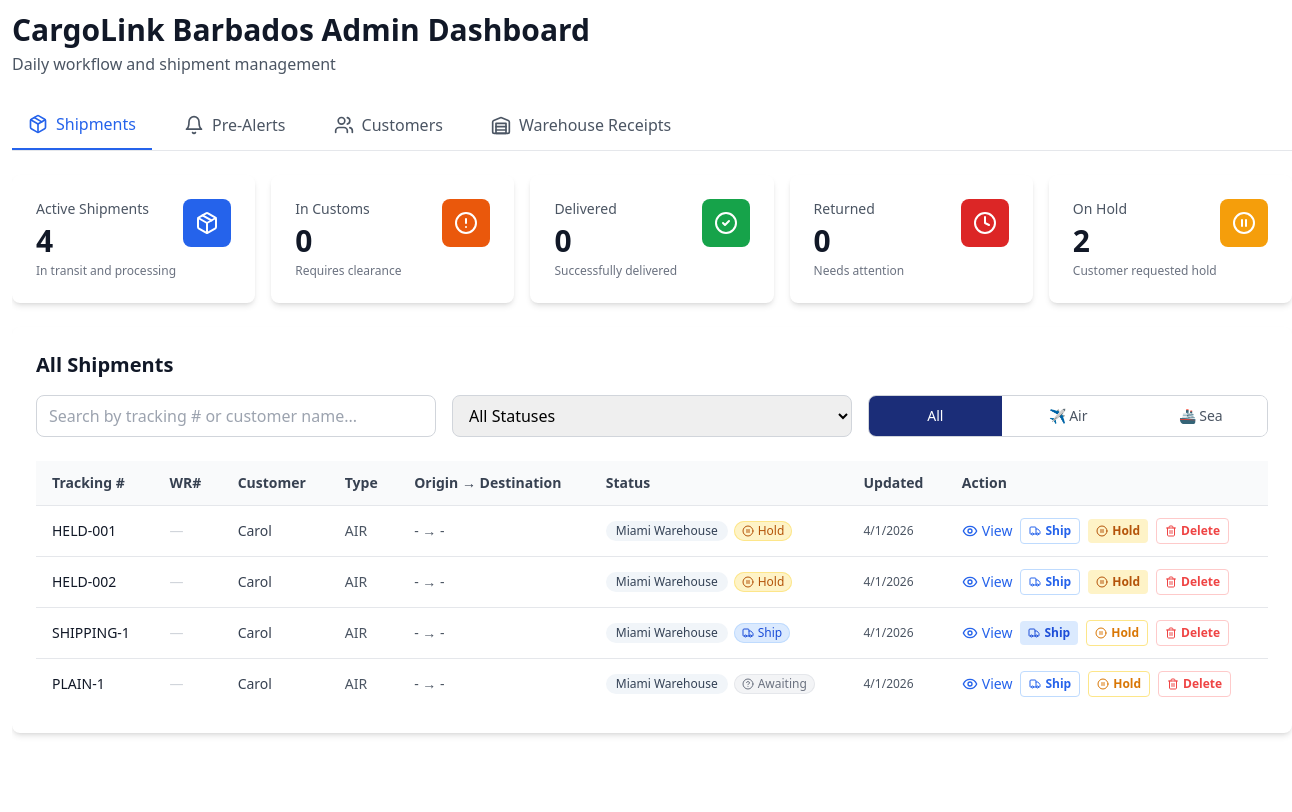
Scenario: AdminDashboard — On Hold metric card › clicking On Hold again clears the filter
Click the text "On Hold".
click(1100, 208)  # box x1=1073 y1=199 x2=1127 y2=218
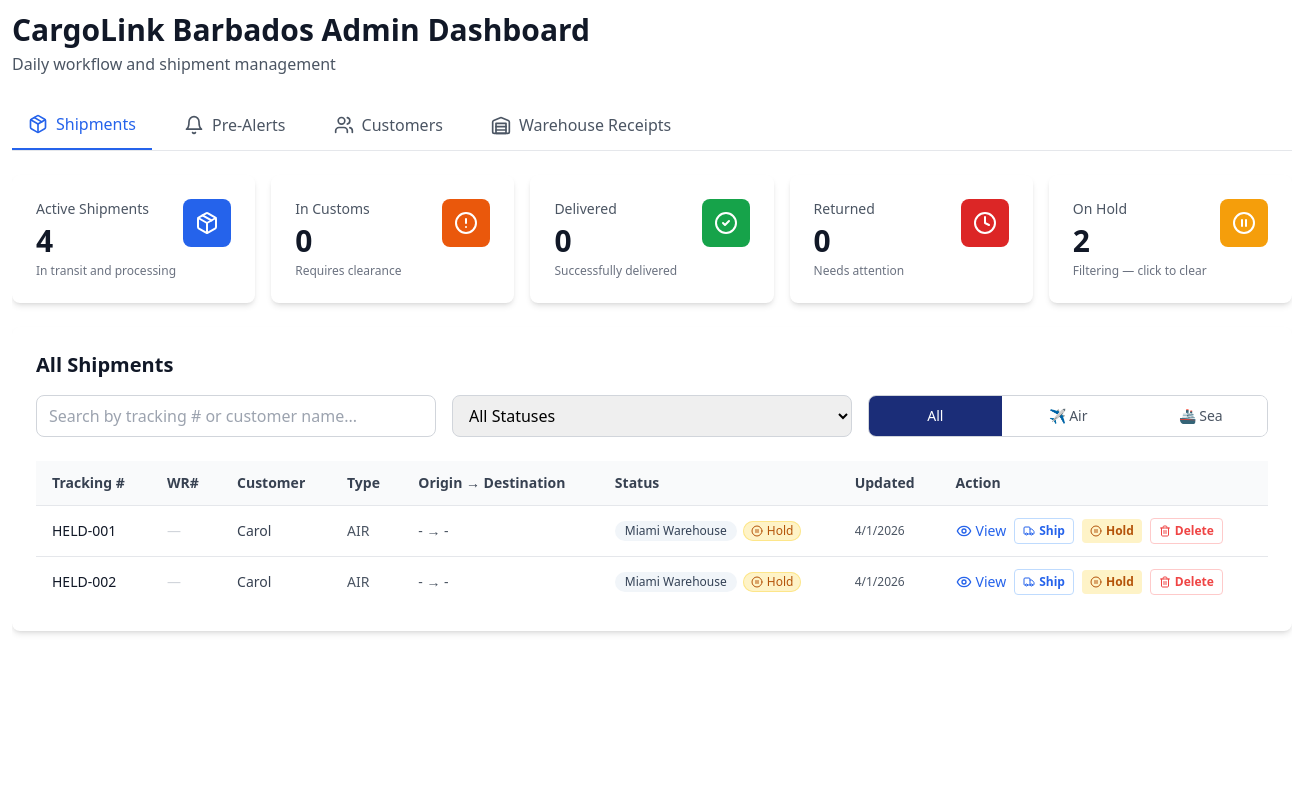
Now the text "PLAIN-1" is gone
Click the text "On Hold".
click(1100, 208)  # box x1=1073 y1=199 x2=1127 y2=218
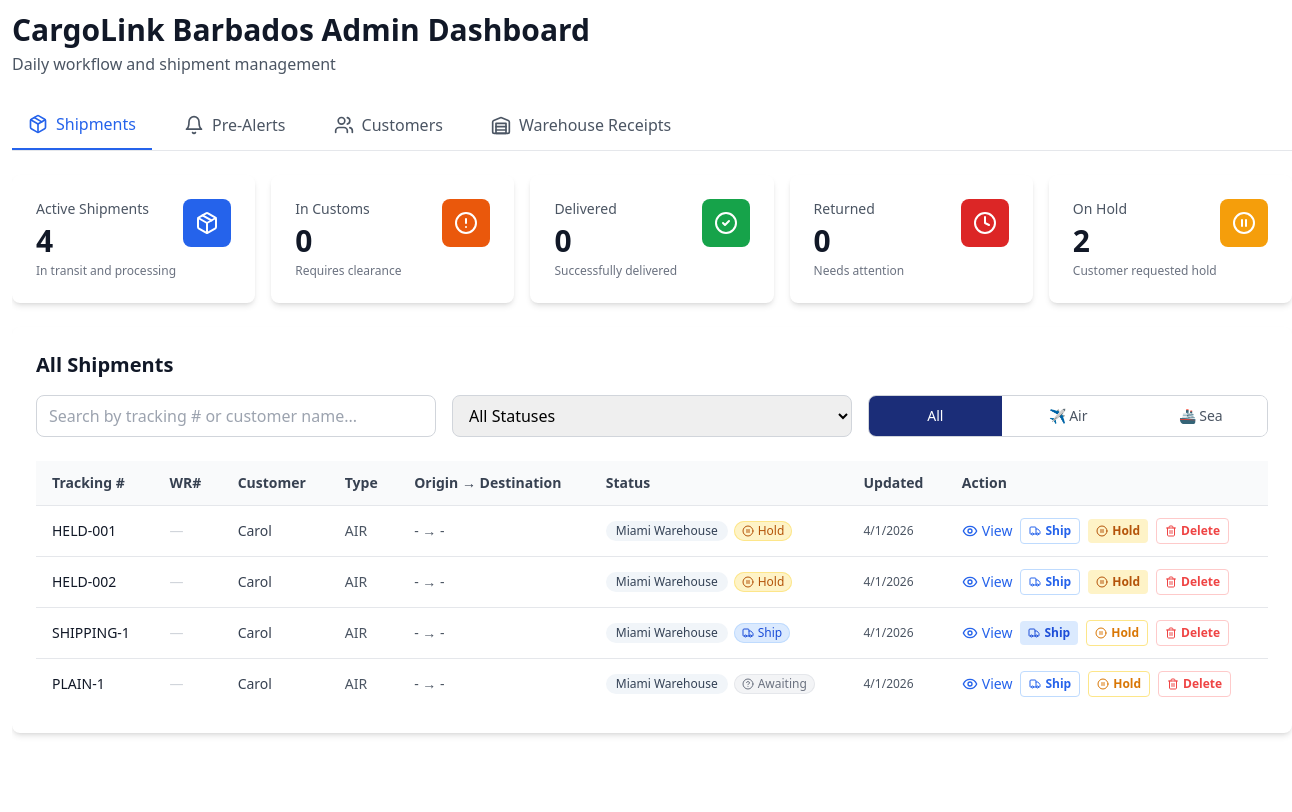
Now the text "PLAIN-1" is shown, box x1=52 y1=674 x2=105 y2=693
